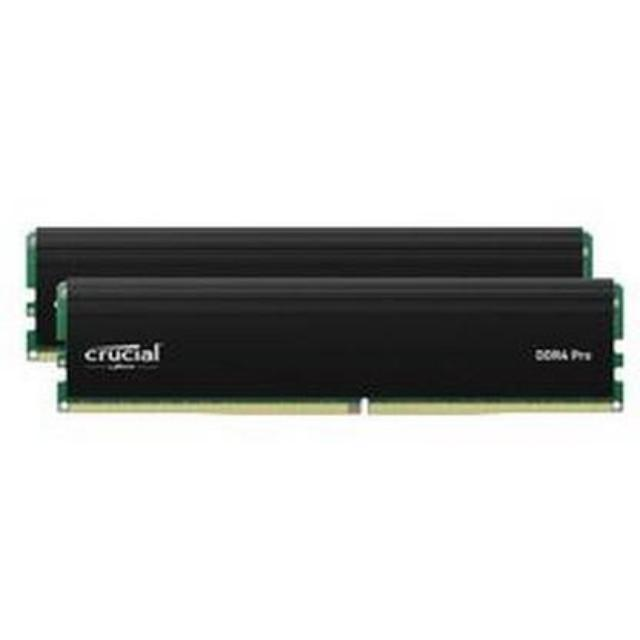RAM: (14, 212, 640, 443)
